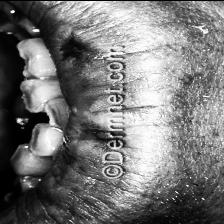Potentially Malignant Skin Tumors: (64, 117, 106, 158), (57, 33, 100, 69)
